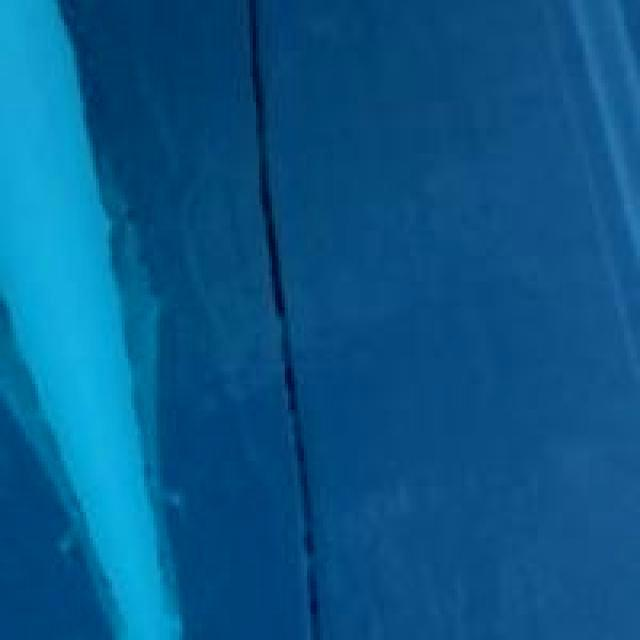SurfaceCrack: (220, 6, 368, 640)
